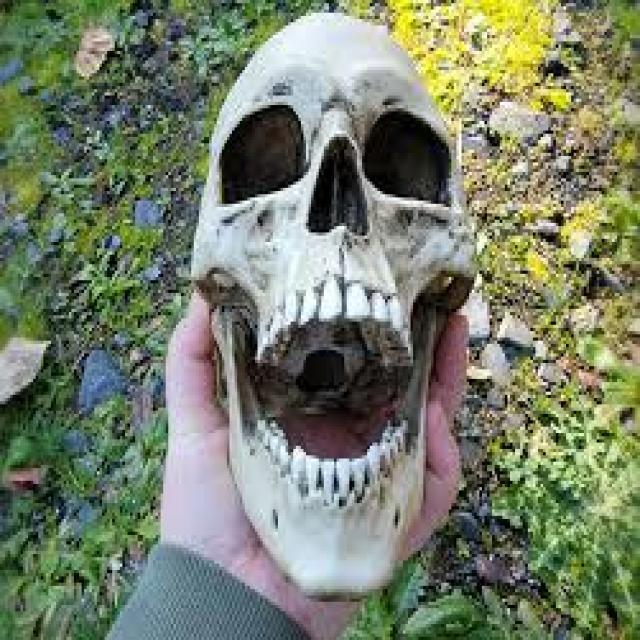skull: (197, 0, 493, 609)
